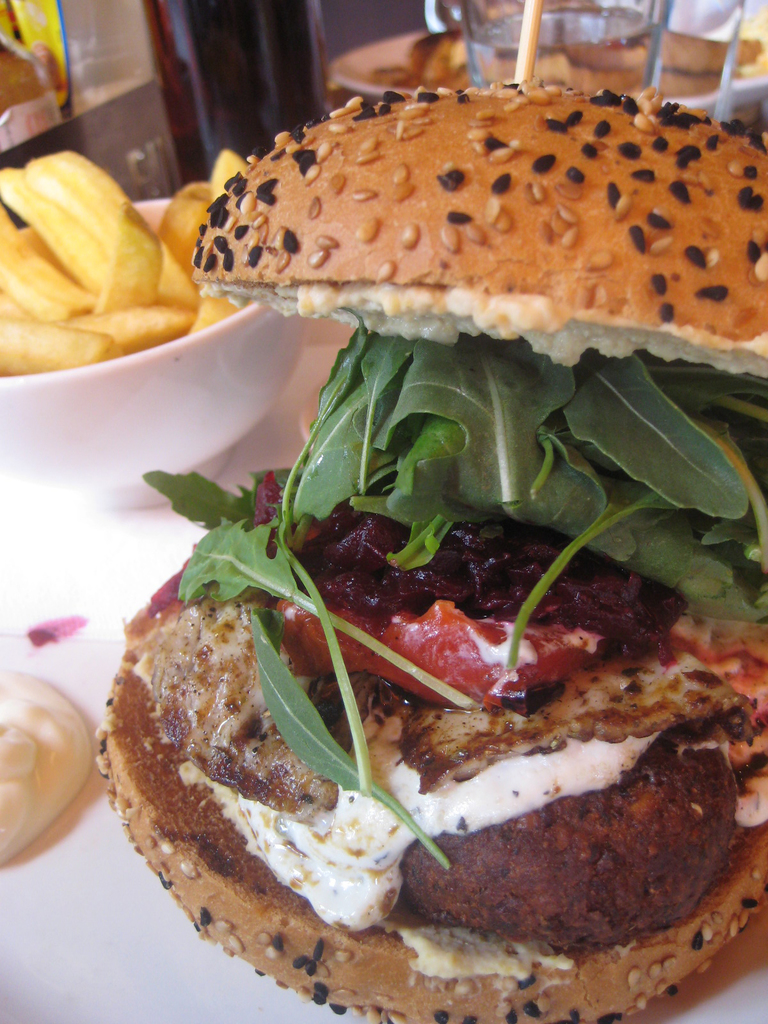Hamburger: (91, 81, 767, 1023)
